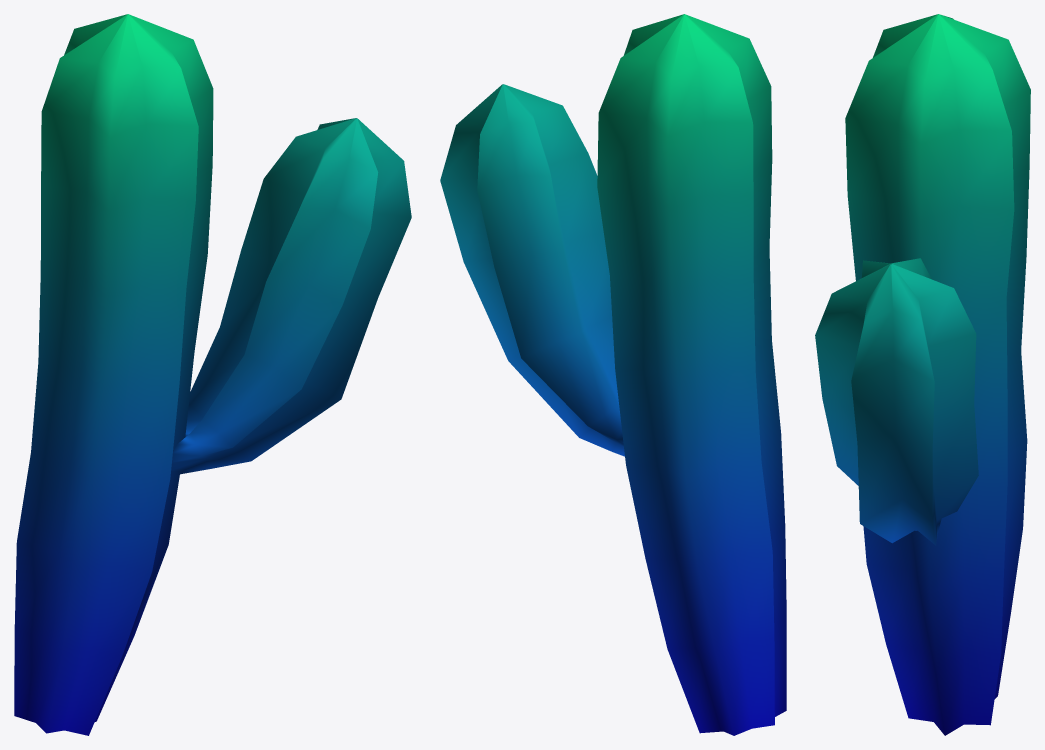
File: Senita2.fbx
3 renders of one model, left to right at view 1: azimuth 30°, elevation 25°; view 2: azimuth 150°, elevation 25°; view 3: azimuth 270°, elevation 25°, orthographic. The views are drawn at different scales.
Visible parts, largest first — view 1: Senita2_LOD0; view 2: Senita2_LOD0; view 3: Senita2_LOD0.
Part boxes in pixels (bbox=[...]): Senita2_LOD0: bbox=[14, 14, 411, 735]; Senita2_LOD0: bbox=[440, 14, 786, 735]; Senita2_LOD0: bbox=[815, 14, 1030, 735].
Size of what is drawn, in the model's own units: 73.23 by 140 by 37.2.
